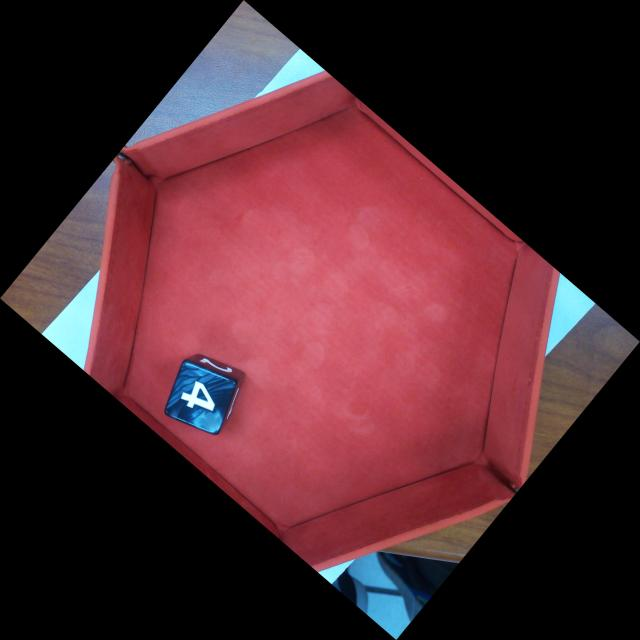dice: (165, 360, 237, 435)
